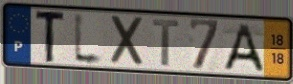7: (188, 17, 222, 73)
A: (221, 22, 266, 74)
L: (72, 9, 106, 69)
T: (34, 10, 68, 65), (151, 19, 182, 68)
X: (109, 14, 147, 69)
